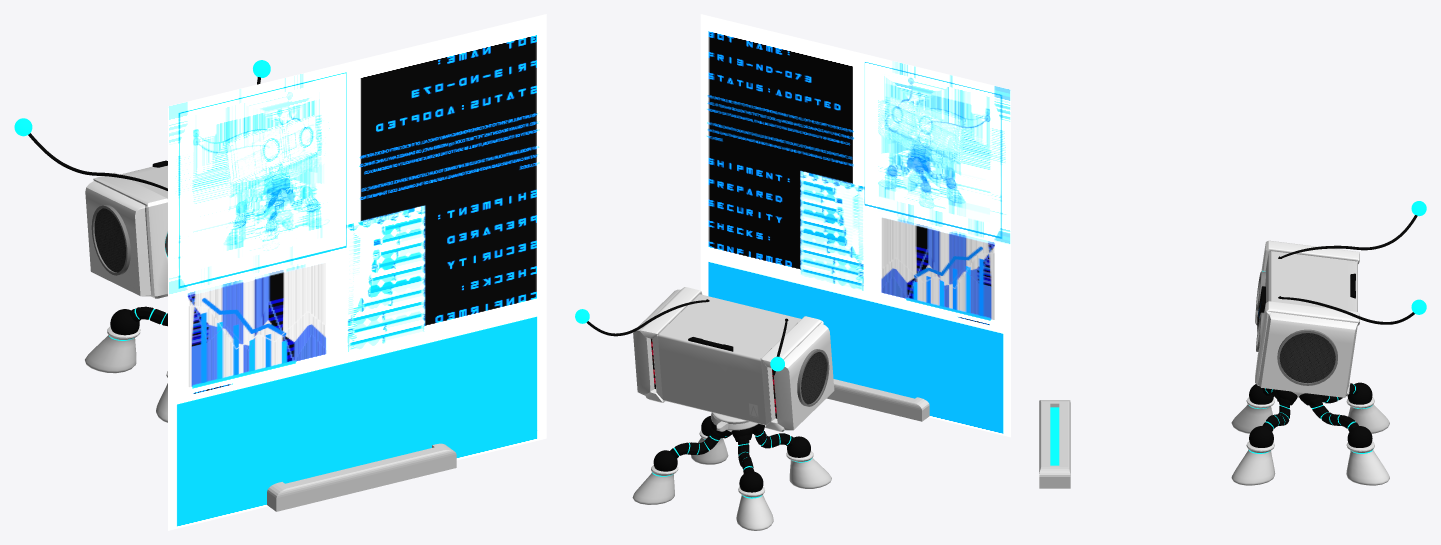
The model's file is robot.glb.
3 views of the same model, side by side, from view 1: azimuth 30°, elevation 25°; view 2: azimuth 150°, elevation 25°; view 3: azimuth 270°, elevation 25° (orthographic). The views are drawn at different scales.
Parts seen in each view (by area): view 1: chart holo_8, Sphere_3, Cube.001_9; view 2: chart holo_8, Sphere_3, Cube.001_9; view 3: Sphere_3, Cube.001_9.
Part boxes in pixels (x1,y1,x2,y2): chart holo_8: [168, 14, 546, 530]; Sphere_3: [14, 60, 270, 422]; Cube.001_9: [267, 443, 456, 511]; chart holo_8: [700, 14, 1010, 437]; Sphere_3: [575, 287, 834, 530]; Cube.001_9: [827, 379, 929, 421]; Sphere_3: [1231, 201, 1426, 485]; Cube.001_9: [1039, 400, 1070, 488].
Size of the model in its own units: 0.7912 by 0.8478 by 0.8266.
14 materials, 6 textured.
